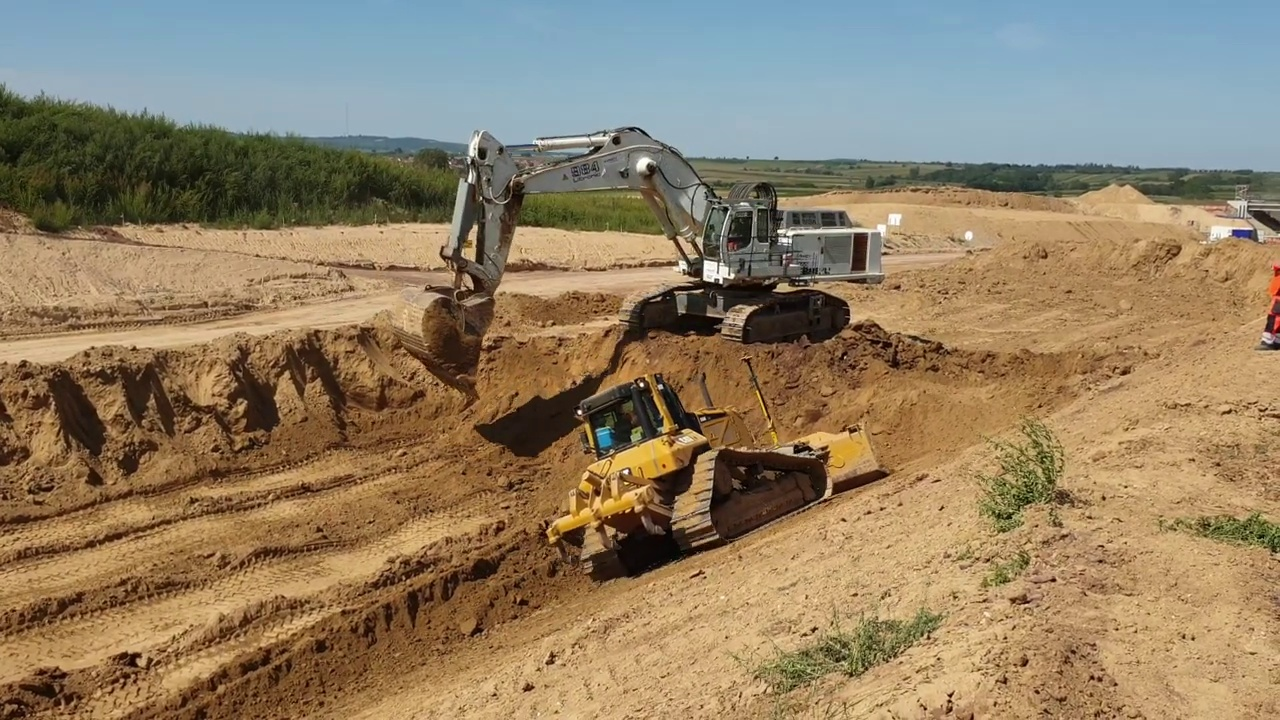bulldozer: (543, 354, 892, 582)
excavator: (392, 121, 890, 382)
worker: (1254, 228, 1280, 352)
